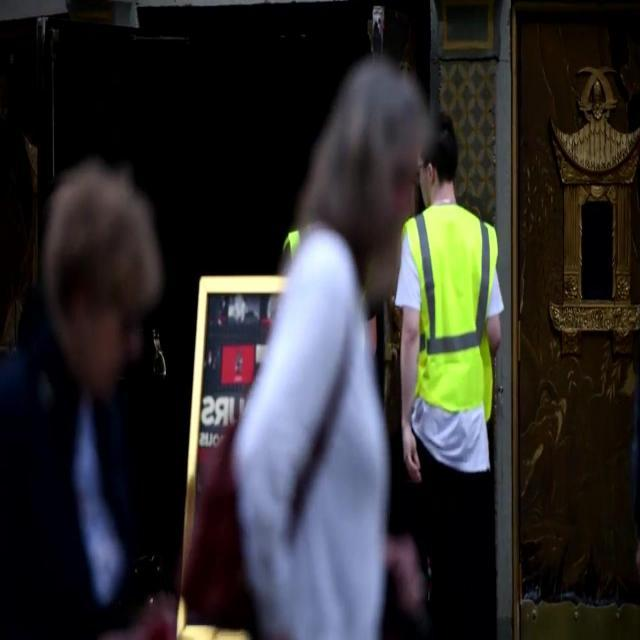reflective_jacket: (391, 197, 506, 470)
